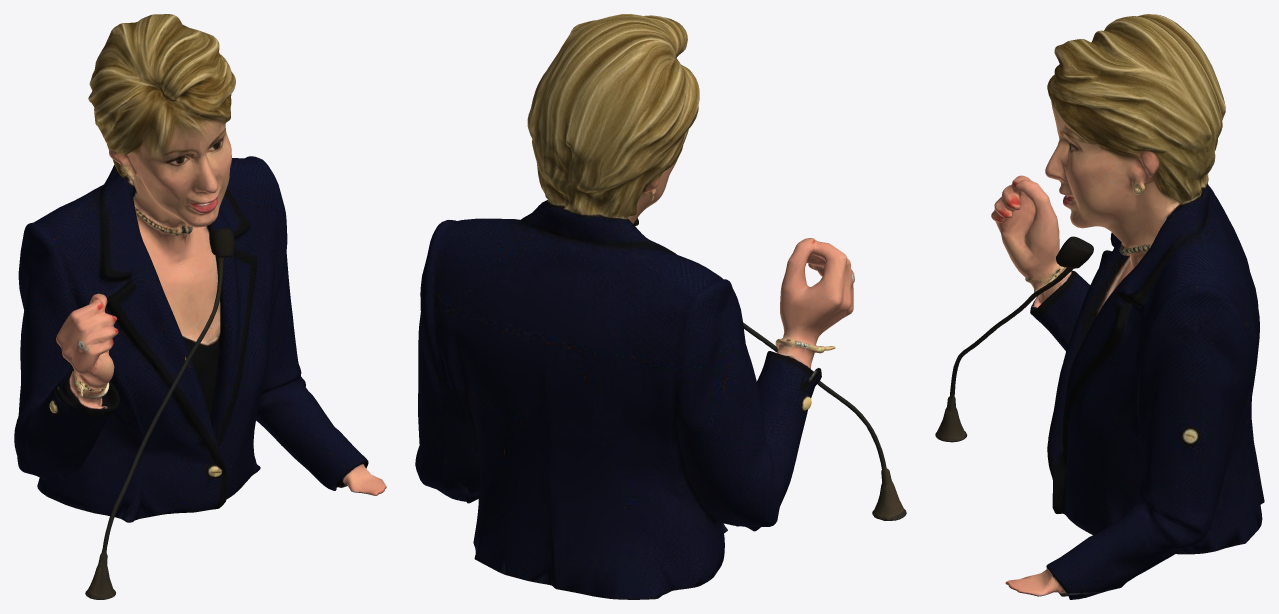
Rendered from ga3-q6-zami0c.glb.
3 renders of one model, left to right at view 1: azimuth 30°, elevation 25°; view 2: azimuth 150°, elevation 25°; view 3: azimuth 270°, elevation 25°, orthographic. The views are drawn at different scales.
Size of the model in its own units: 1.41 by 1.9 by 1.15.
1 material, 1 textured.
